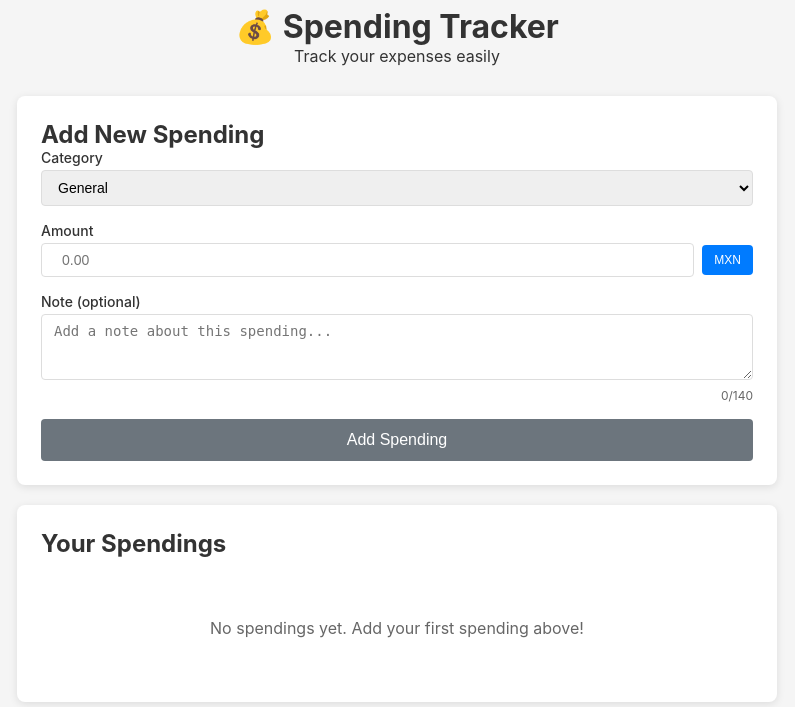
Test: Flaky Test Example › Timing-Based Flaky Test › should wait for DOM updates after form submission
Step 1. Type "30.00" into the field with test id "amount-input" showing "Amount" → (368, 260), box [41,243,694,277]
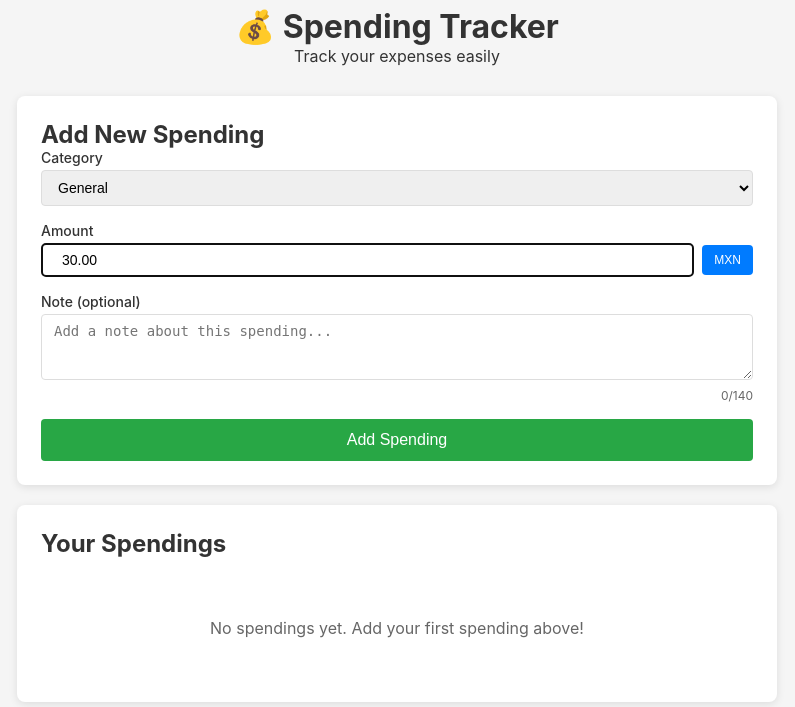
Step 2. Click the button with test id "add-spending-btn" → (397, 440), box [41,419,753,461]
(page scrolled)
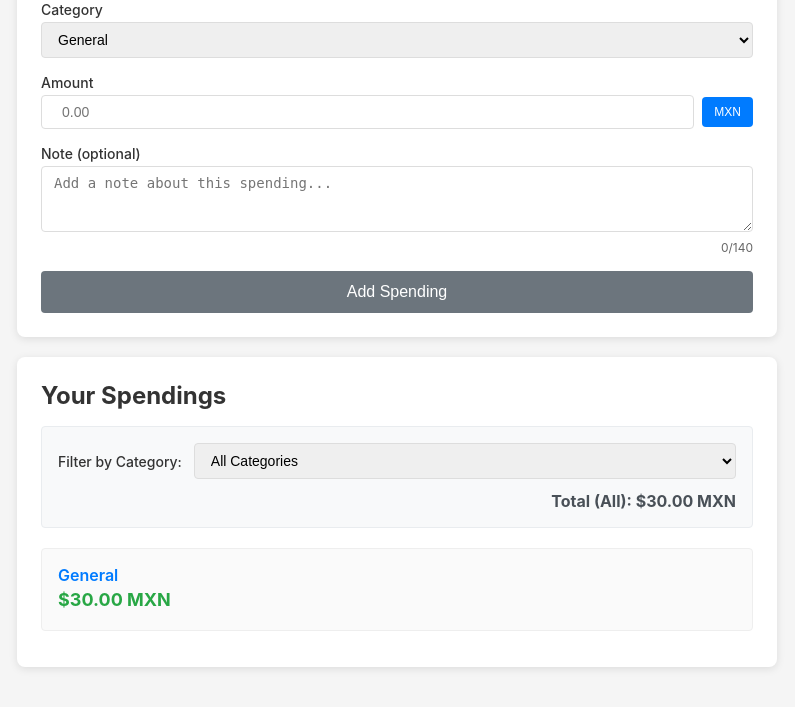
Expected: the text "$30.00 MXN" is shown, [58,589,171,610]
